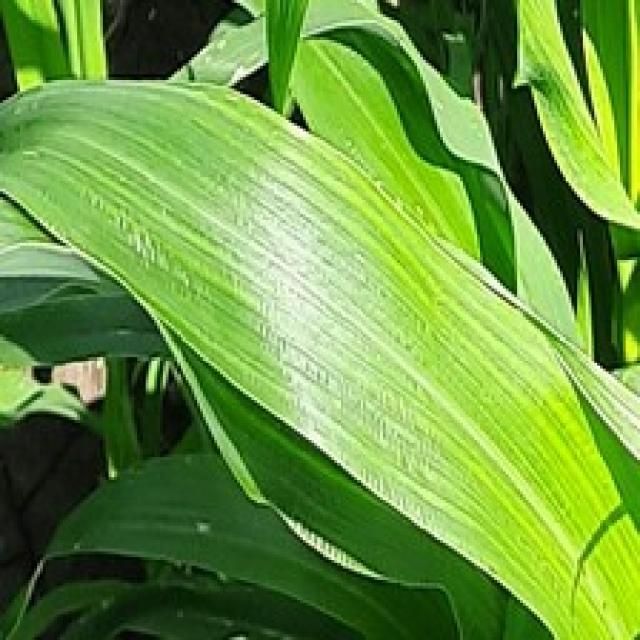Corn: (0, 0, 637, 637), (506, 0, 637, 246)
